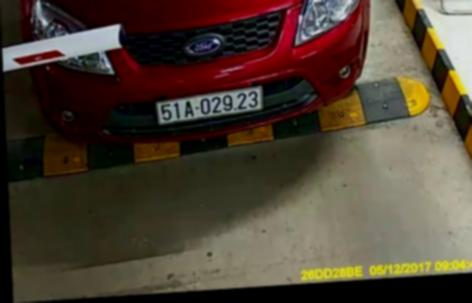License_Plate: (157, 87, 265, 125)
